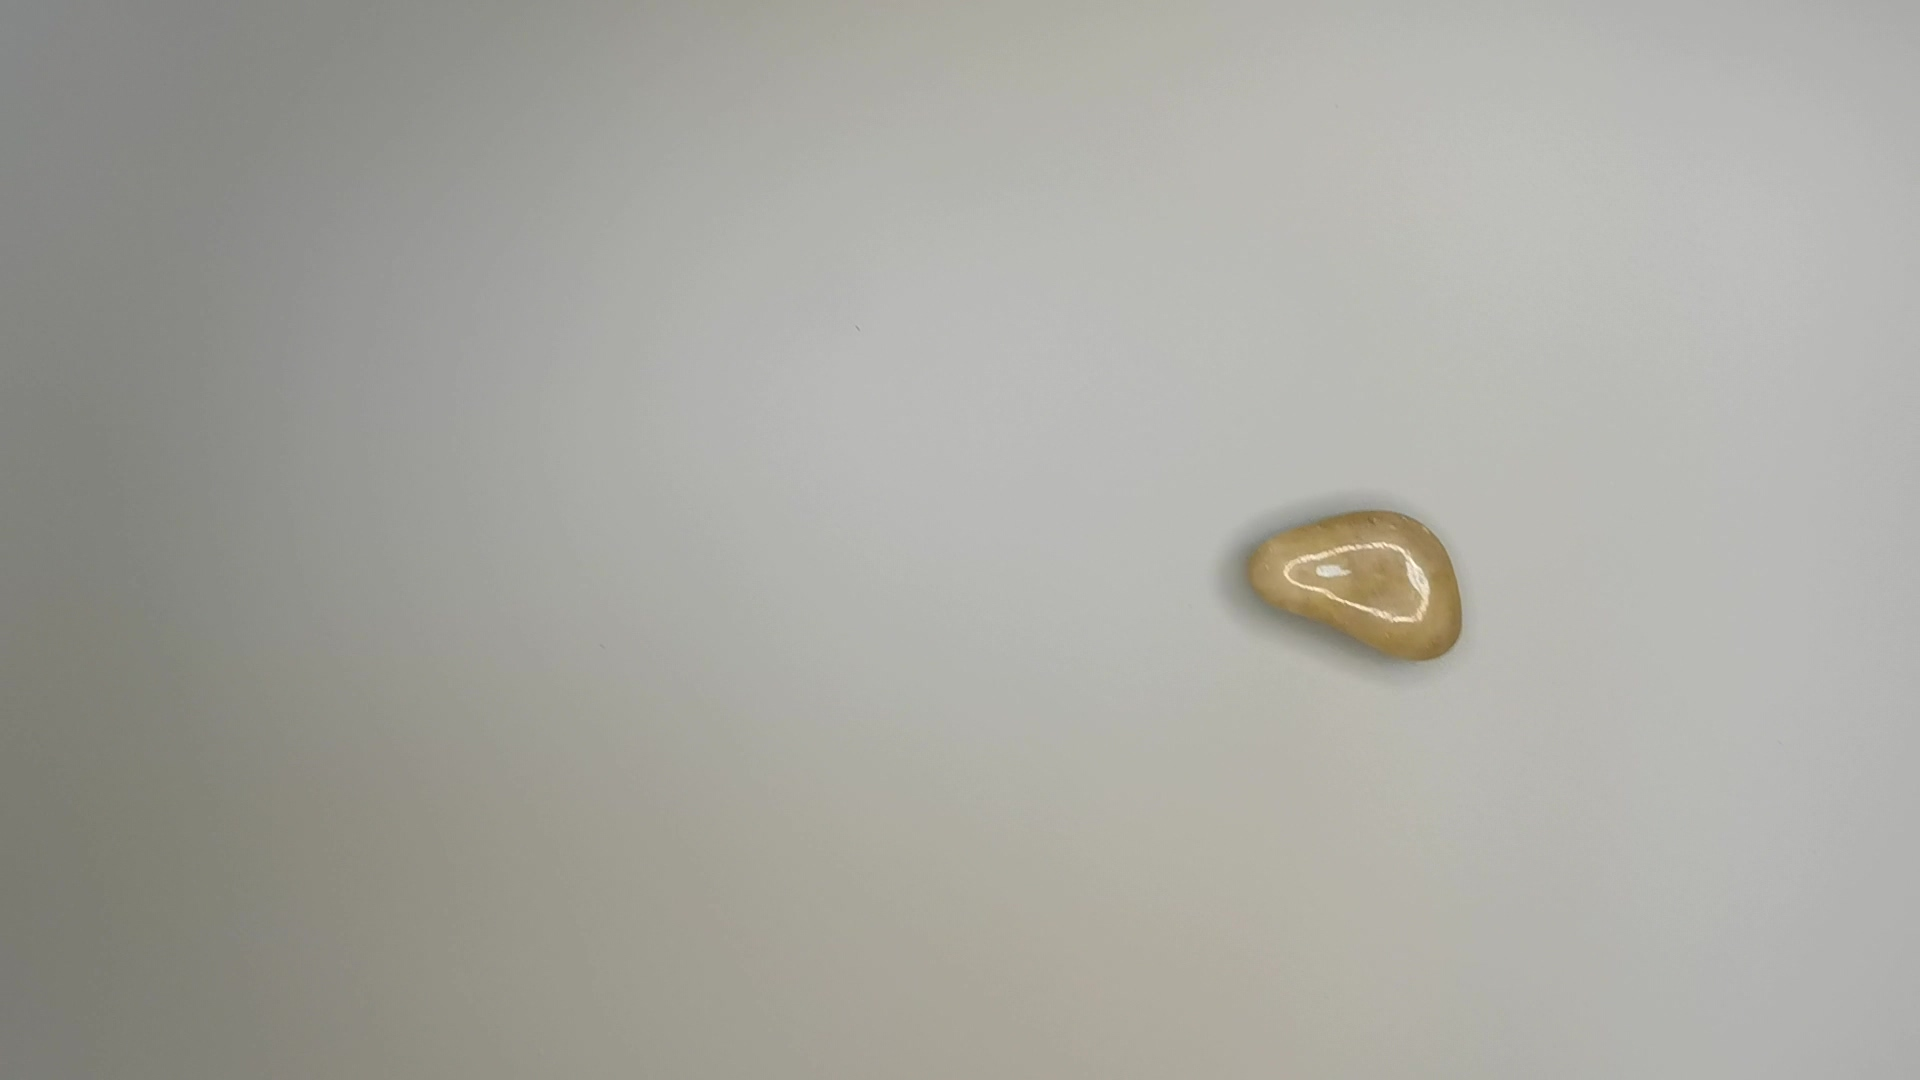ceramic: (1244, 500, 1462, 667)
